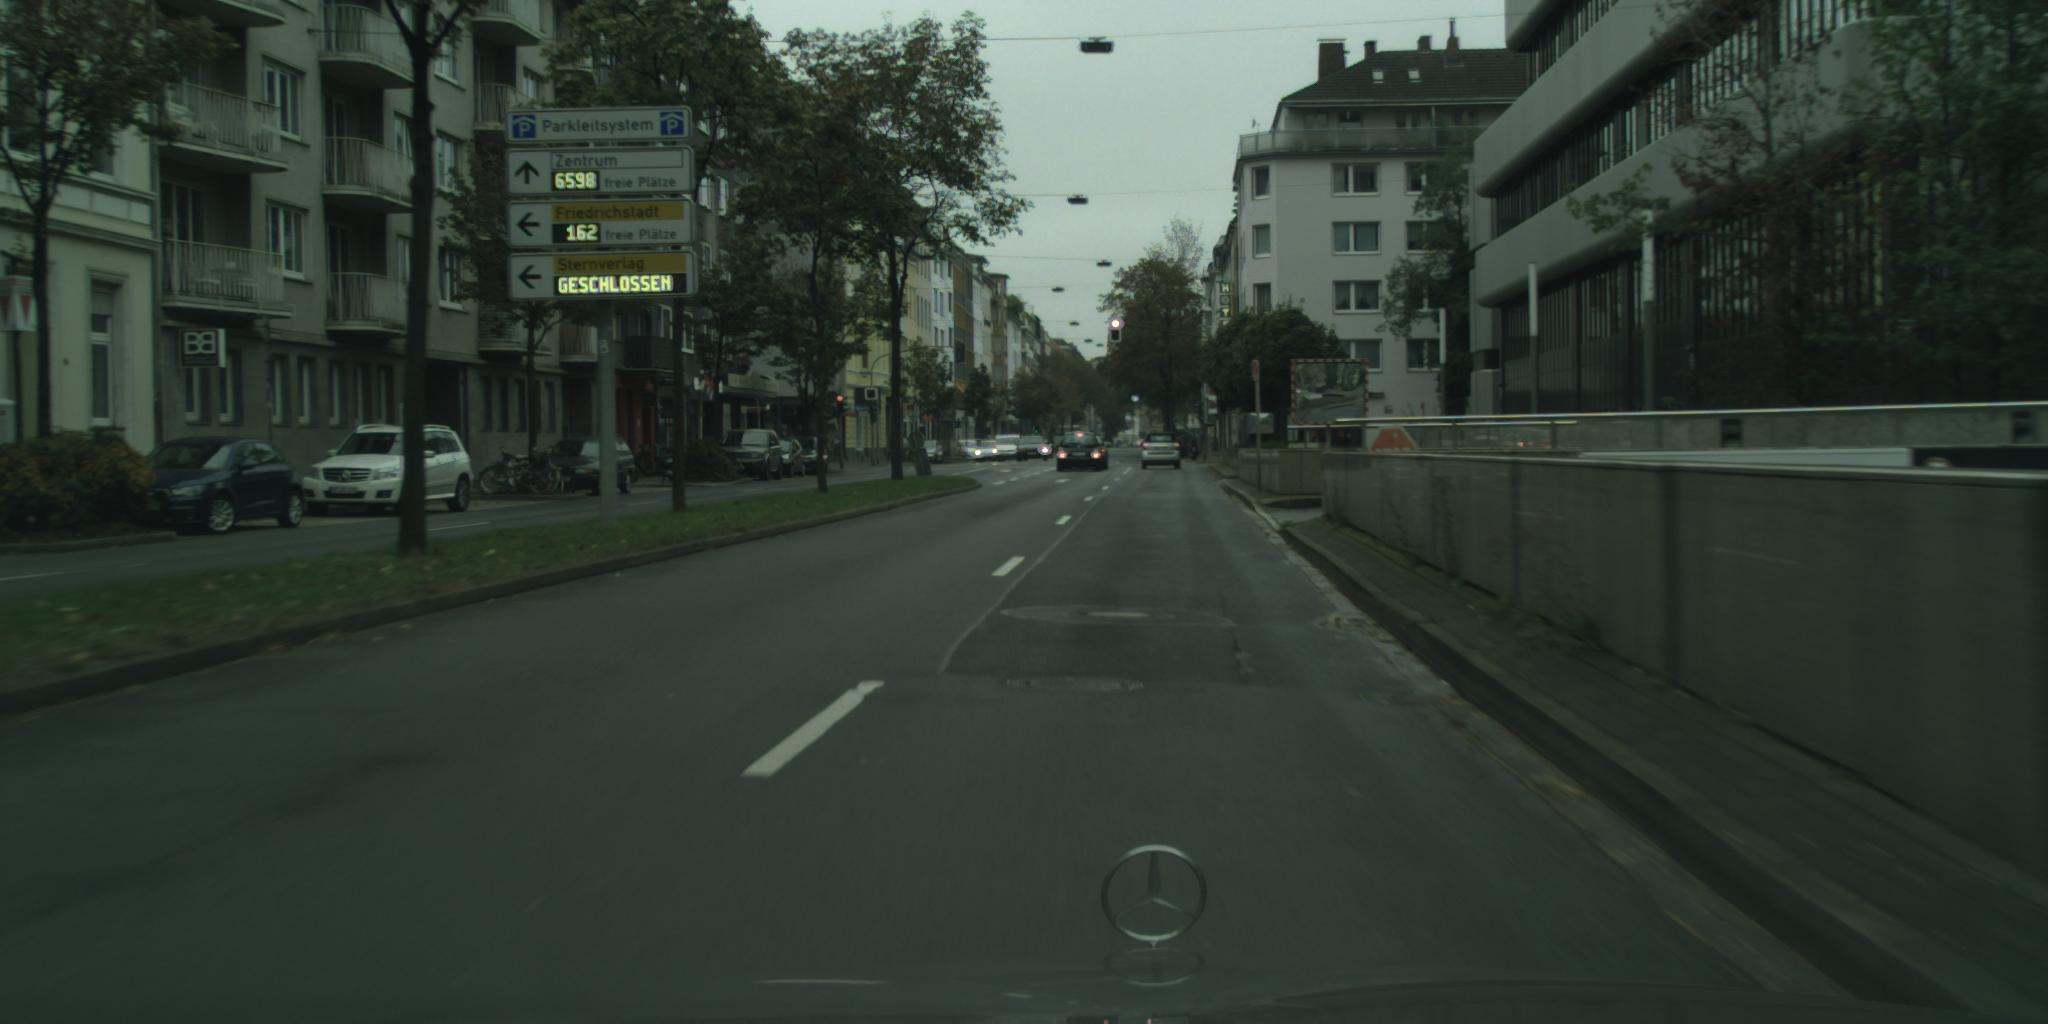car: (125, 438, 306, 537), (298, 423, 473, 520), (543, 434, 639, 498), (717, 430, 784, 482), (1057, 431, 1105, 473), (1142, 432, 1182, 472), (768, 438, 806, 478), (788, 438, 829, 473), (1087, 436, 1113, 472), (920, 441, 950, 464), (895, 438, 920, 462)
motorcycle: (630, 445, 684, 486)
